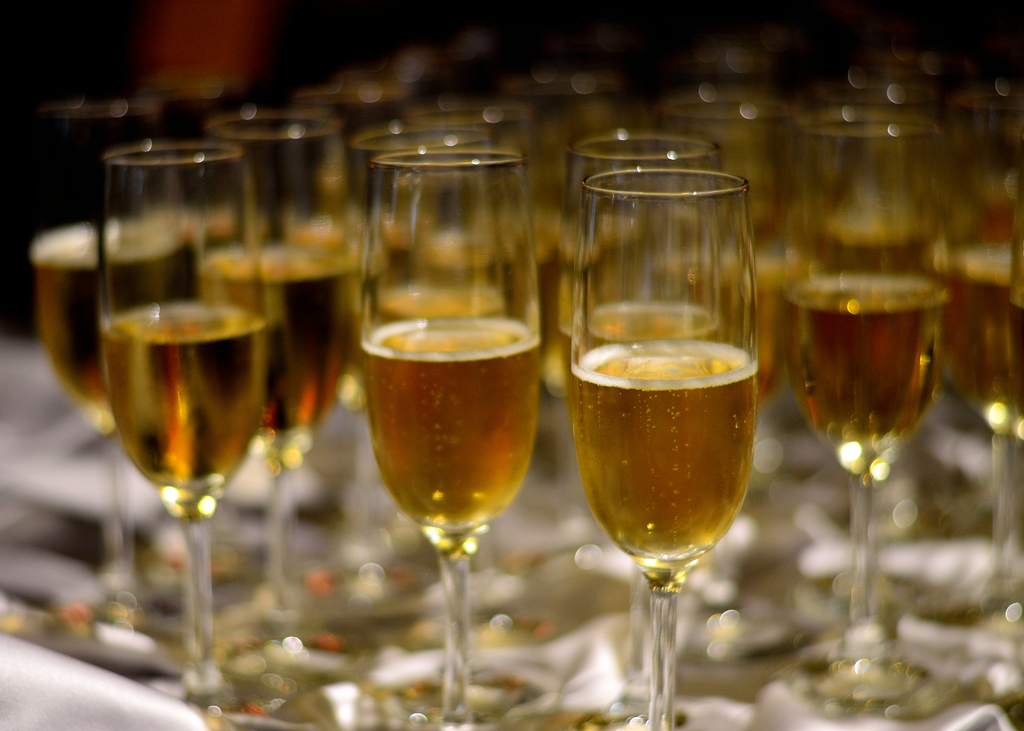Beer: (30, 64, 1023, 555)
